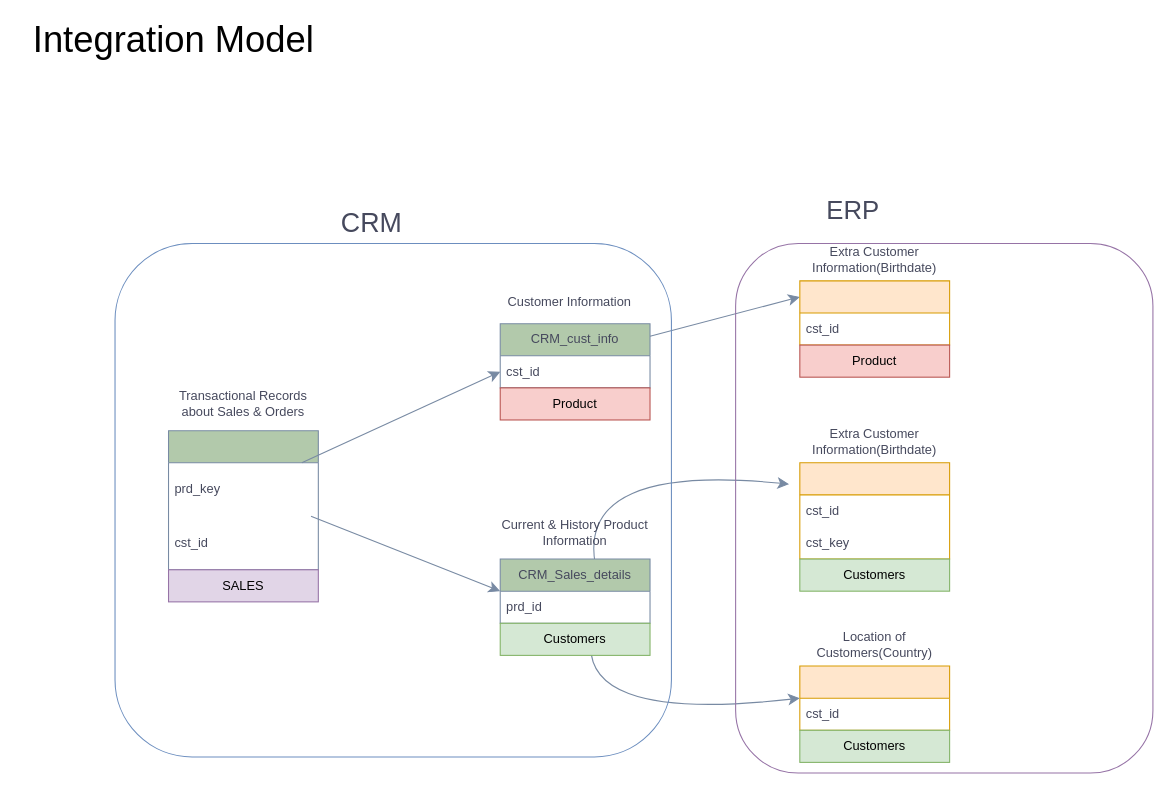
Image size: 1172x792. Some labels were removed from this diagram. The shapes that lost their labels are listed below. From the top down, each one's box as (x1, y1, x2, y2) in pixels, then its label:
(799, 280, 950, 345): erp_px_cat_g1v2
(167, 430, 318, 570): CRM_prd_info
(799, 462, 950, 559): ERP_cust_az12
(799, 665, 950, 730): ERP_loc_a101
